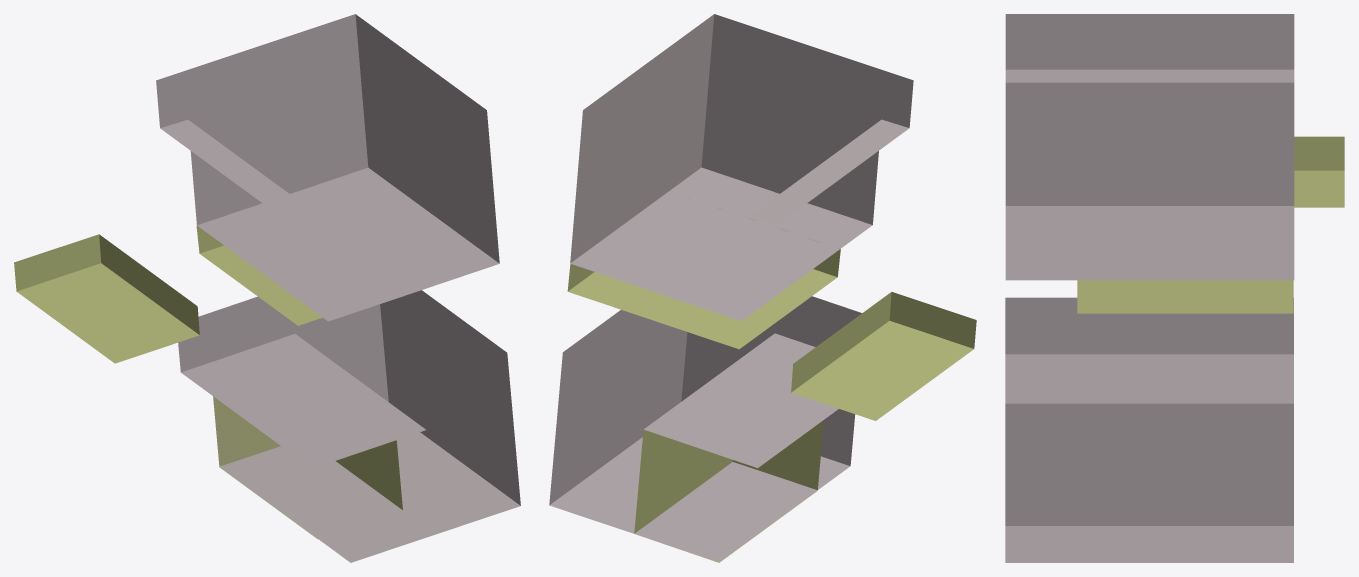
3 views of the same model, side by side, from view 1: azimuth 30°, elevation 25°; view 2: azimuth 150°, elevation 25°; view 3: azimuth 270°, elevation 25° (orthographic). The views are drawn at different scales.
Visible parts, largest first — view 1: 0_2_3_3_3_1_0_2_0_0; view 2: 0_2_3_3_3_1_0_2_0_0; view 3: 0_2_3_3_3_1_0_2_0_0.
Boxes of the visible parts, x1,y1,x2,y2 form: 0_2_3_3_3_1_0_2_0_0: [14, 14, 520, 562]; 0_2_3_3_3_1_0_2_0_0: [549, 14, 976, 562]; 0_2_3_3_3_1_0_2_0_0: [1005, 14, 1344, 562].
Bounding box in the file's own units: 18.57 × 21.15 × 14.11.
